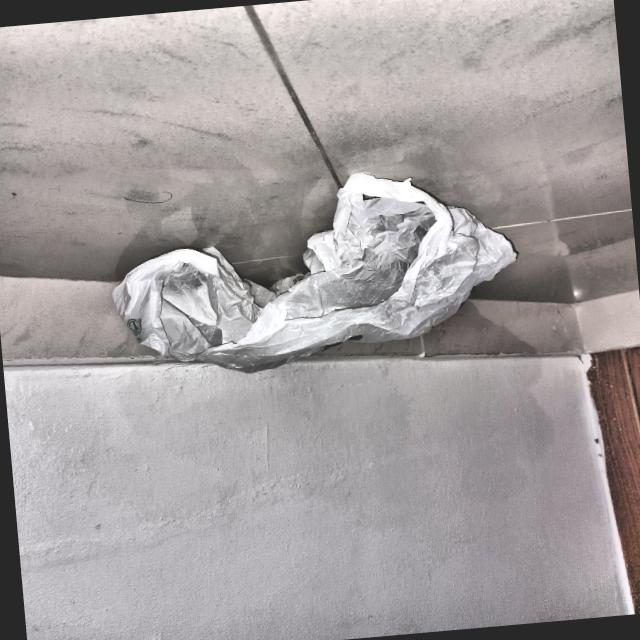plastic bag: (112, 162, 525, 387)
